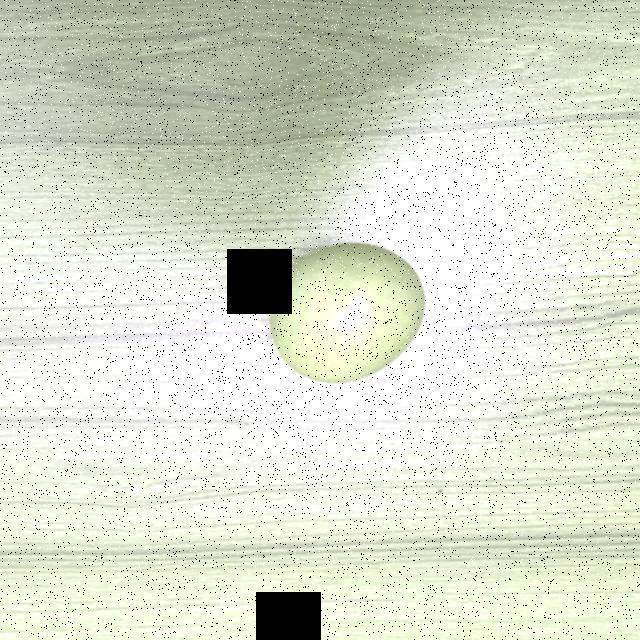egg: (260, 240, 433, 389)
